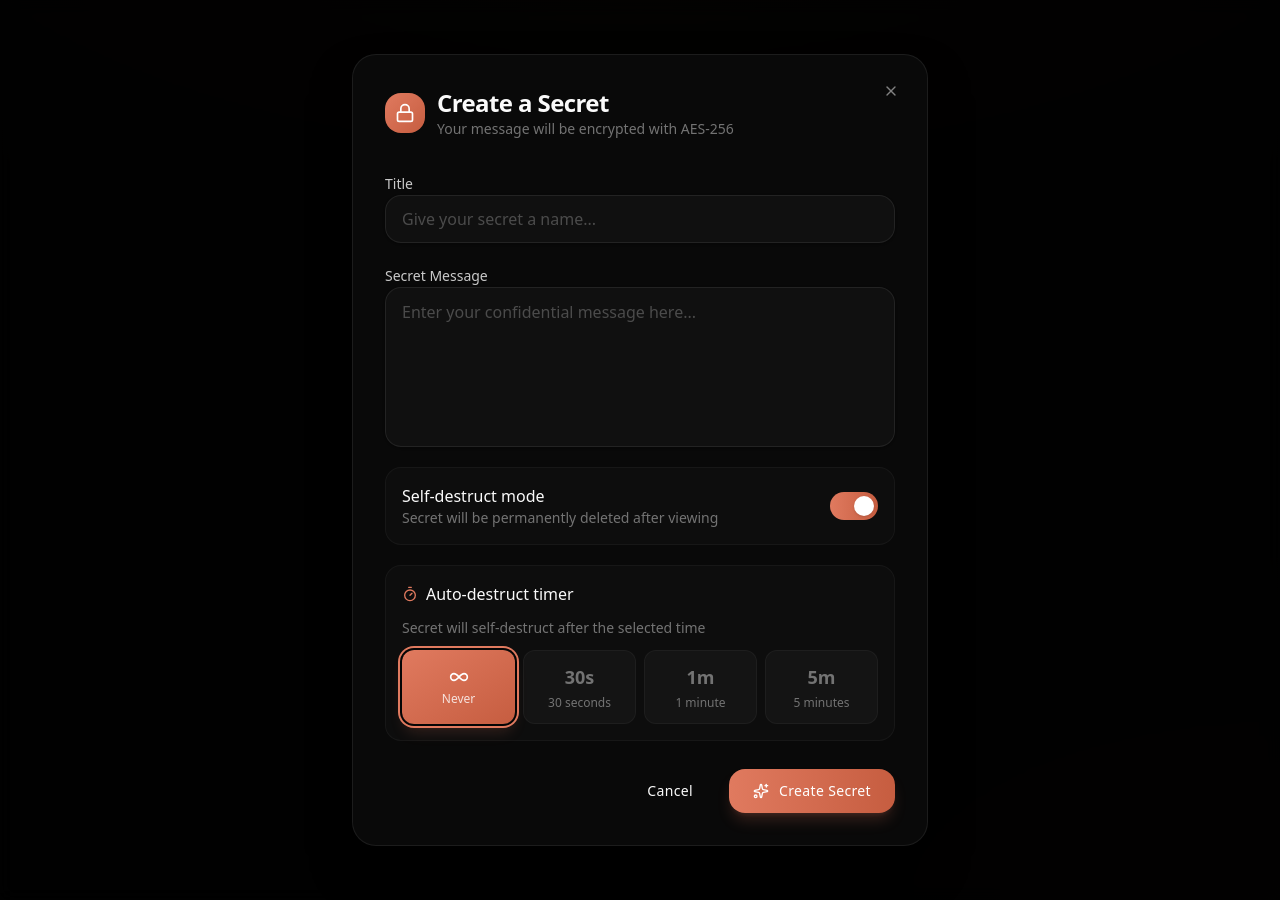
Test: CreateSecretDialog › shows validation error for empty content
The width and height of the screenshot is (1280, 900).
Type "My Secret" into the field labelled "Title". click: (640, 219)
box: left=385, top=195, right=895, bottom=243
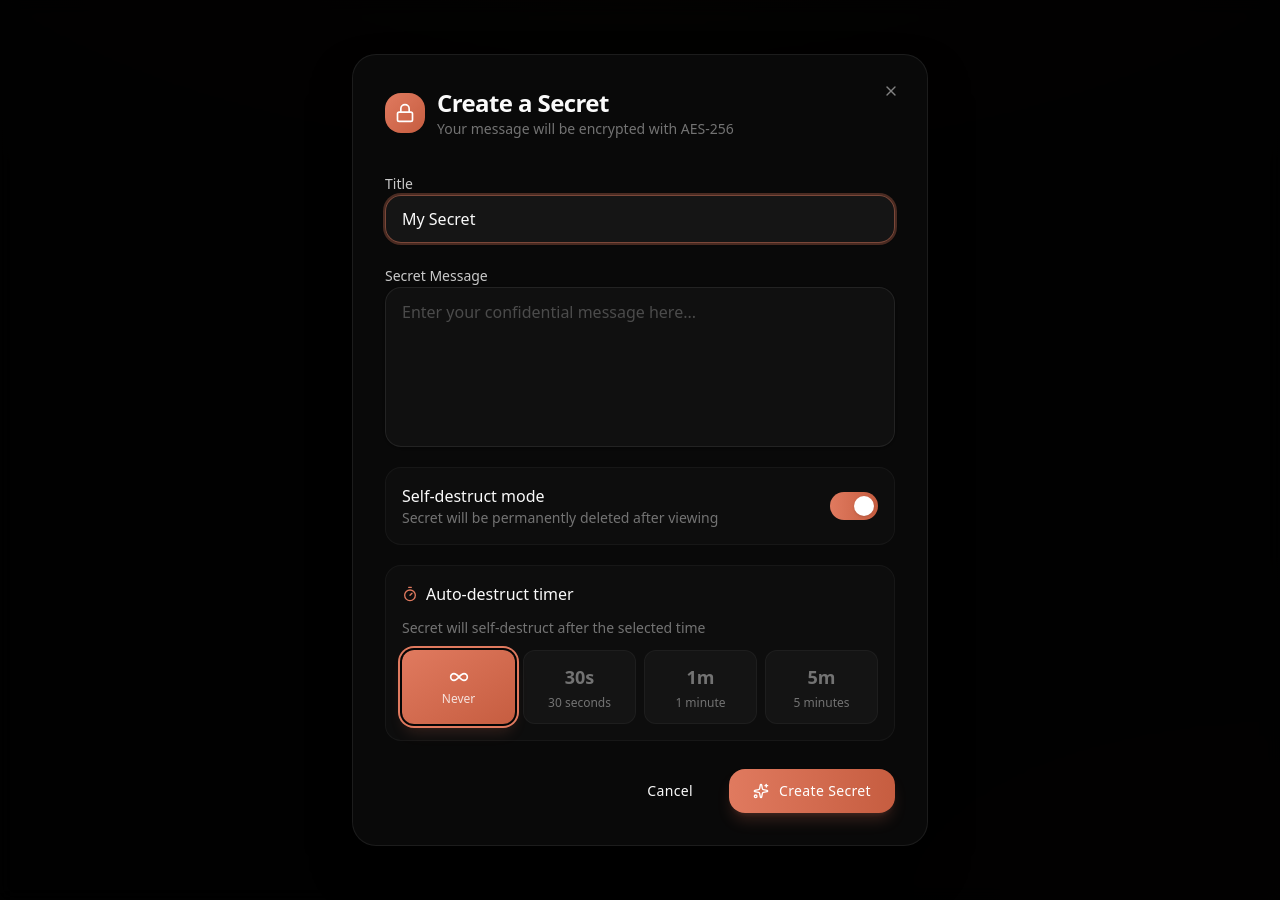
Click the button "Create Secret". click: (812, 791)
box: left=729, top=769, right=895, bottom=813
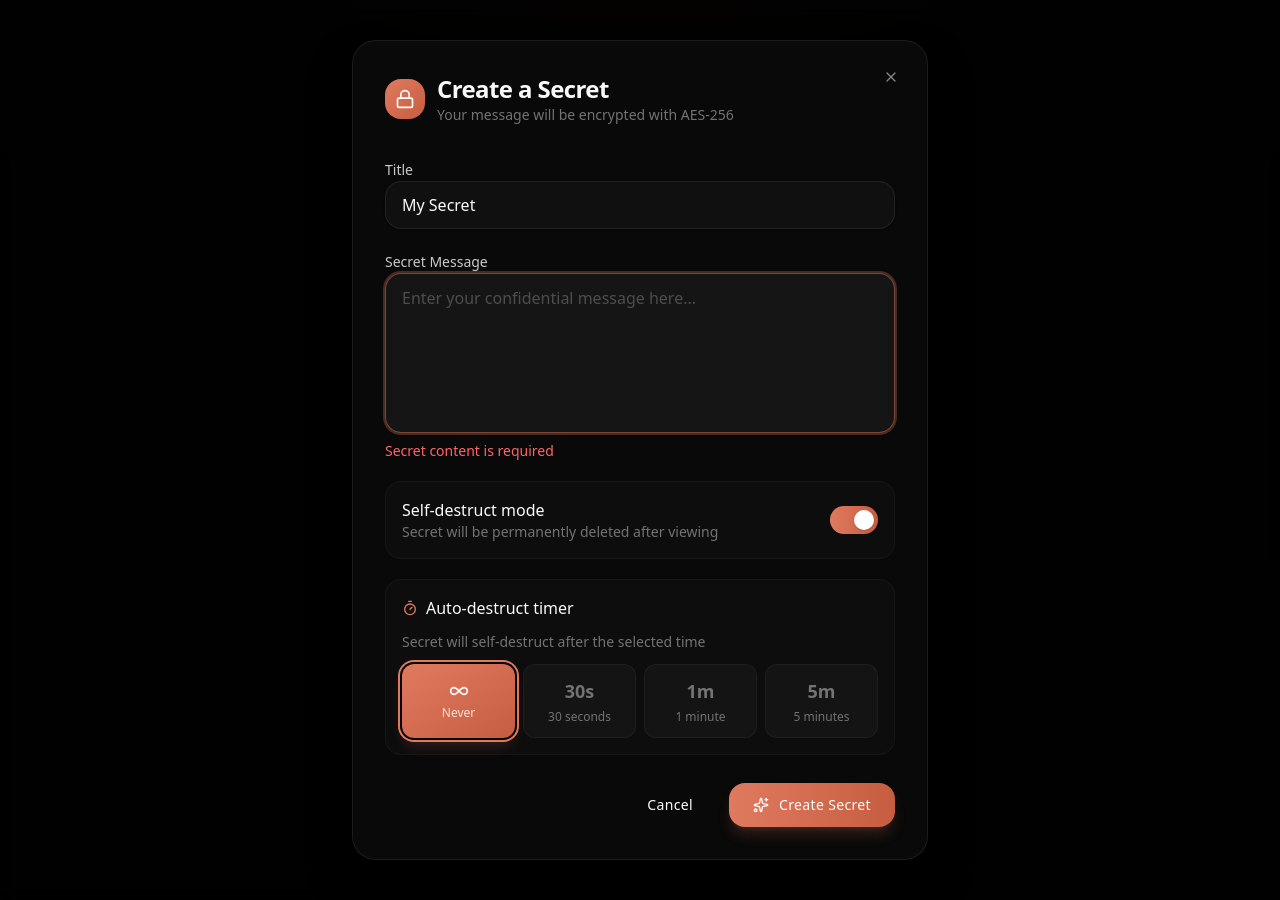
Expected: the text "Secret content is required" is shown, left=385, top=441, right=554, bottom=460
